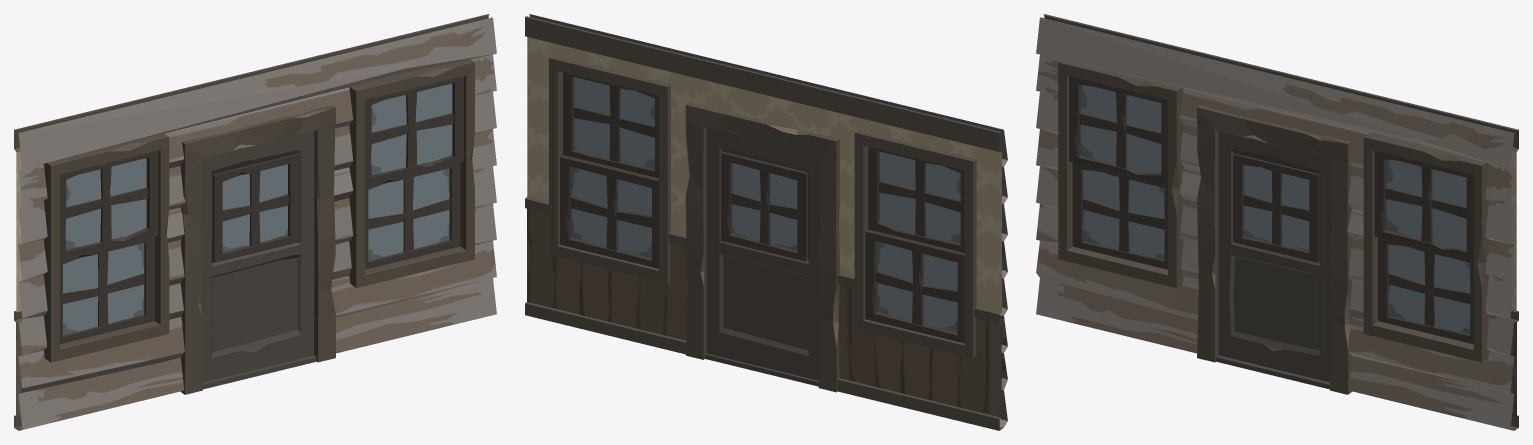
The model's file is SM_Bld_Single_Front_03.fbx.
The picture shows the model from 3 angles, left to right: view 1: azimuth 30°, elevation 25°; view 2: azimuth 150°, elevation 25°; view 3: azimuth 330°, elevation 25°; orthographic projection.
Parts seen in each view (by area): view 1: SM_Bld_Single_Front_03, SM_Building_Single_FrontDoor_03, SM_Bld_Single_Front_Window_03, SM_Building_Single_FrontDoor_Window_03; view 2: SM_Bld_Single_Front_03, SM_Building_Single_FrontDoor_03, SM_Bld_Single_Front_Window_03, SM_Building_Single_FrontDoor_Window_03; view 3: SM_Bld_Single_Front_03, SM_Building_Single_FrontDoor_03, SM_Bld_Single_Front_Window_03, SM_Building_Single_FrontDoor_Window_03.
Boxes of the visible parts, box(x1,y1,x2,y2) form: SM_Bld_Single_Front_03: box(14, 14, 496, 430); SM_Building_Single_FrontDoor_03: box(200, 131, 314, 382); SM_Bld_Single_Front_Window_03: box(63, 83, 452, 335); SM_Building_Single_FrontDoor_Window_03: box(222, 164, 287, 252); SM_Bld_Single_Front_03: box(525, 14, 1007, 430); SM_Building_Single_FrontDoor_03: box(706, 128, 821, 380); SM_Bld_Single_Front_Window_03: box(572, 77, 960, 332); SM_Building_Single_FrontDoor_Window_03: box(732, 163, 797, 250); SM_Bld_Single_Front_03: box(1036, 14, 1518, 430); SM_Building_Single_FrontDoor_03: box(1218, 131, 1332, 382); SM_Bld_Single_Front_Window_03: box(1080, 85, 1470, 334); SM_Building_Single_FrontDoor_Window_03: box(1244, 165, 1309, 250).
Size of the model in its own units: 500 by 300 by 23.46.
